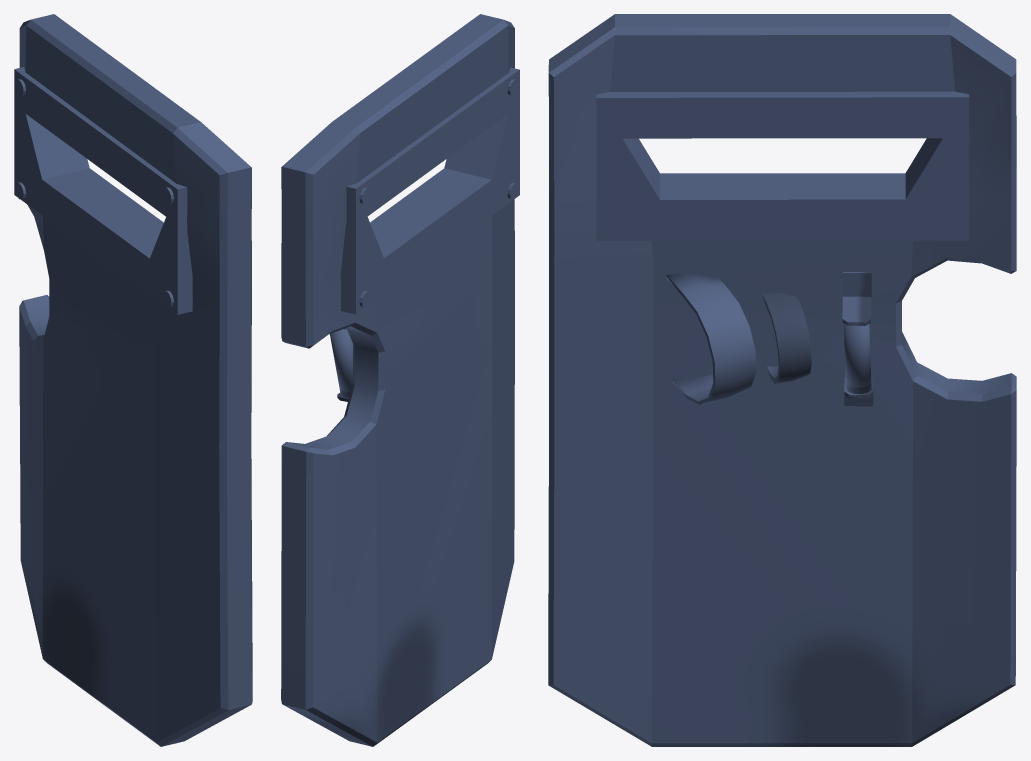
File: RiotShieldFinal.fbx
3 views of the same model, side by side, from view 1: azimuth 30°, elevation 25°; view 2: azimuth 150°, elevation 25°; view 3: azimuth 270°, elevation 25° (orthographic). The views are drawn at different scales.
Visible parts, largest first — view 1: ModelShield; view 2: ModelShield; view 3: ModelShield.
Part boxes in pixels (x1,y1,x2,y2): ModelShield: (14, 14, 252, 746); ModelShield: (281, 14, 519, 746); ModelShield: (548, 14, 1016, 746).
Bounding box in the file's own units: 294 × 1608 × 948.
